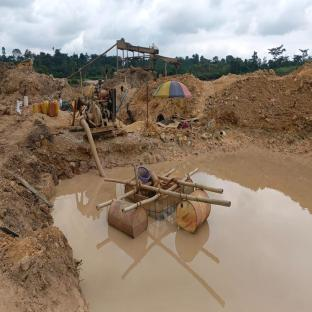ProcessingEquipment: (107, 155, 236, 245), (111, 31, 187, 81), (70, 91, 128, 139)
